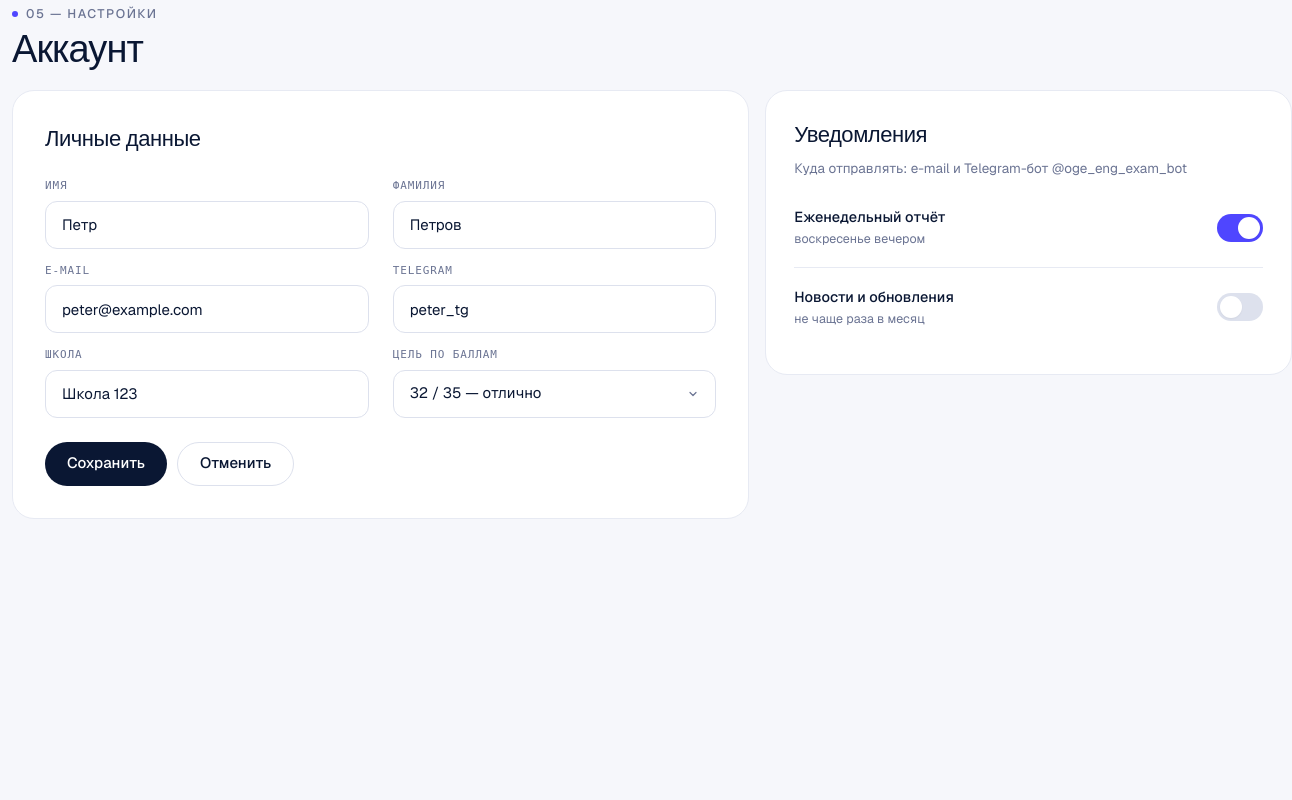
Profile Components Suite › SettingsSection › should validate empty name fields locally and block submit
The width and height of the screenshot is (1292, 800).
// Clear both name inputs
Clear the field below "имя" at (207, 224), box top-left (45, 200), bottom-right (369, 248)
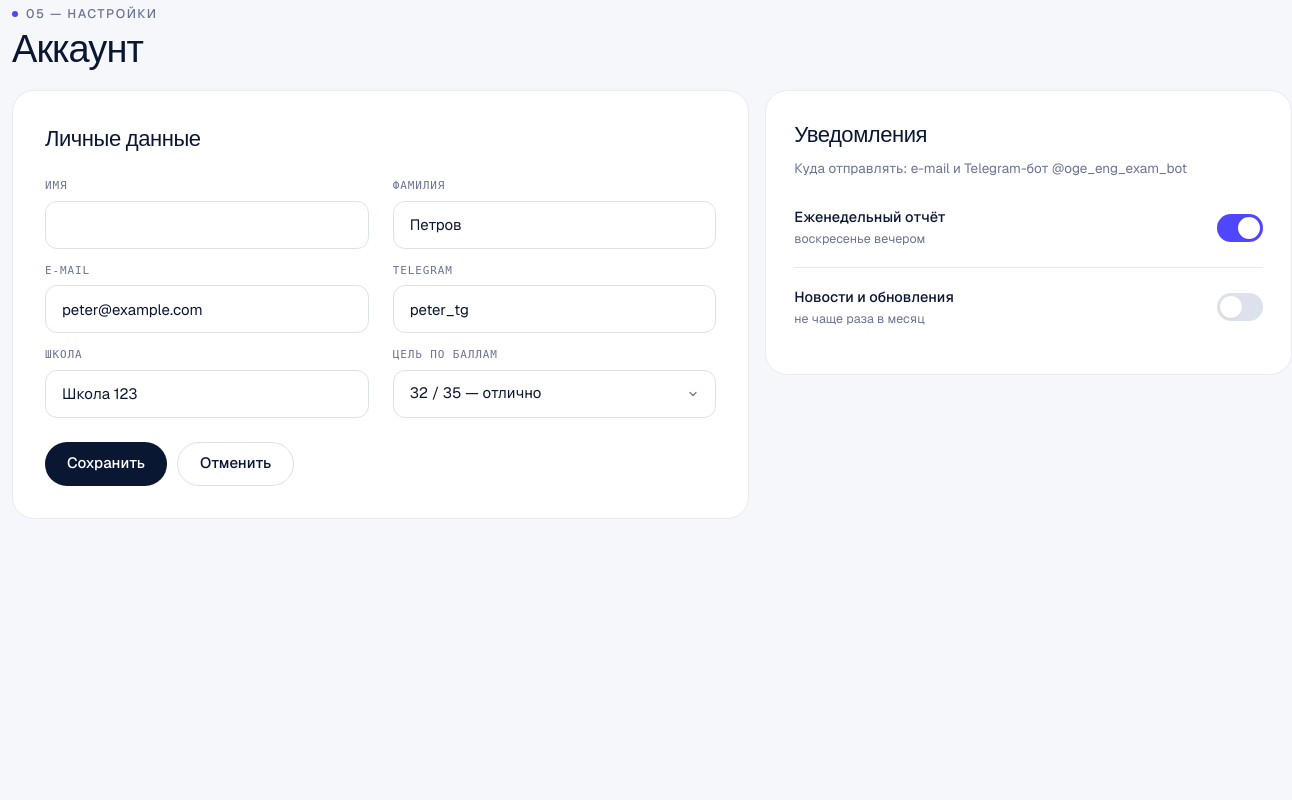
Clear the field below "фамилия" at (555, 224), box top-left (393, 200), bottom-right (716, 248)
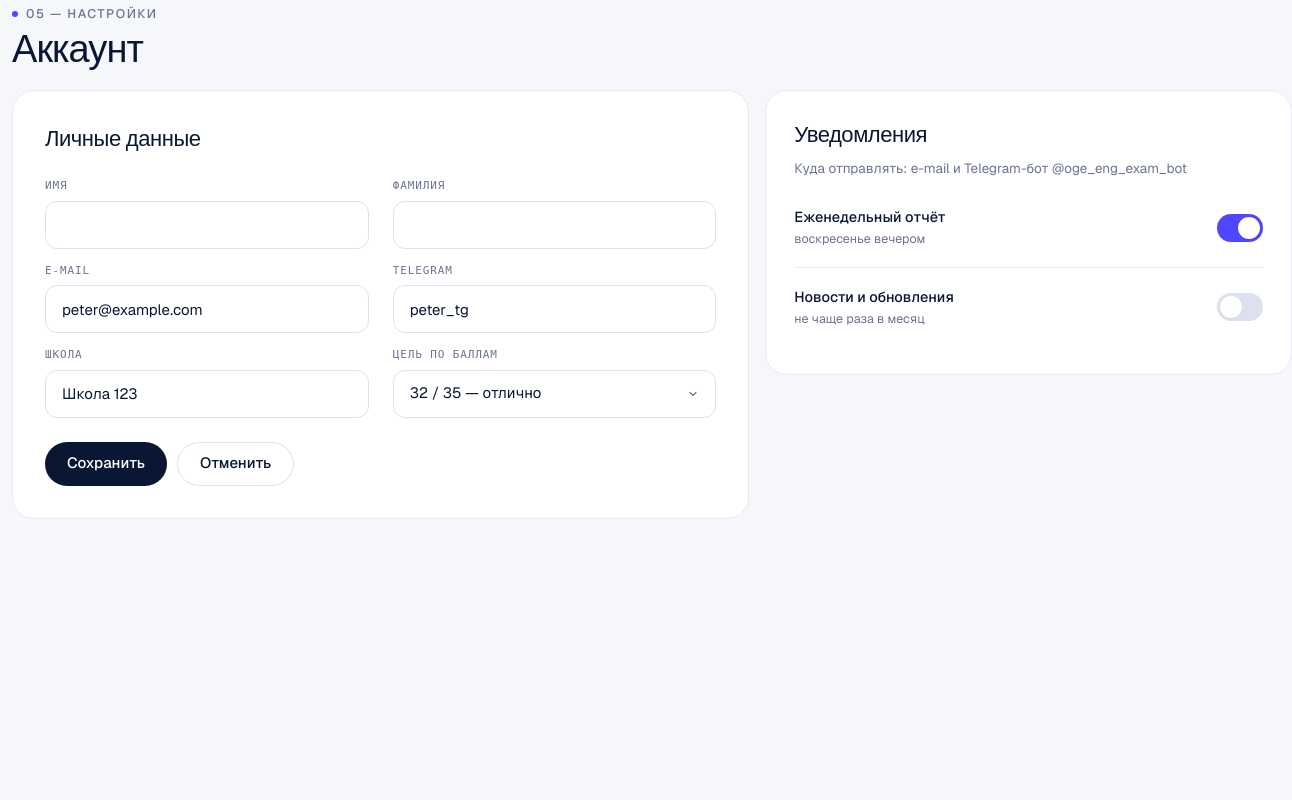
Click the button "Сохранить" at (106, 464), box top-left (45, 442), bottom-right (167, 486)
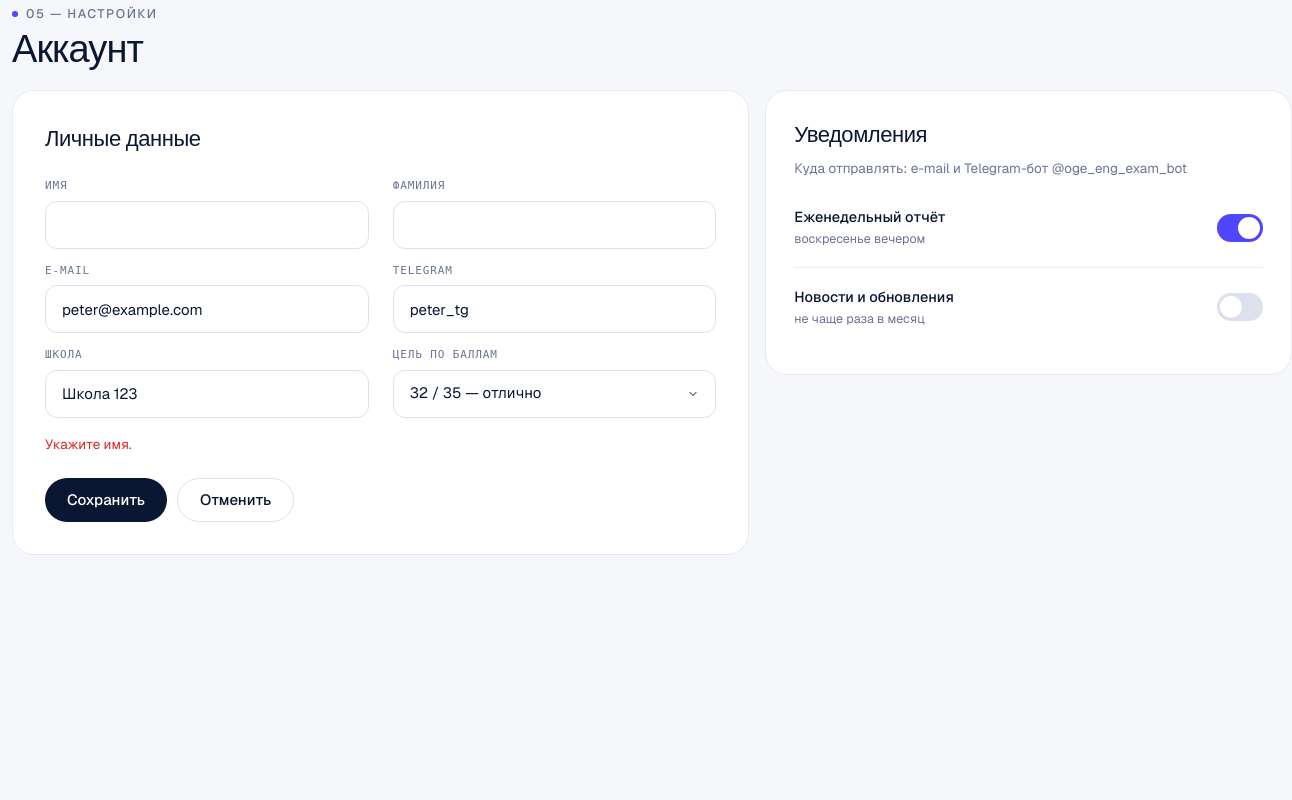
Expected: the text "Укажите имя." is shown, top-left (45, 434), bottom-right (132, 452)
